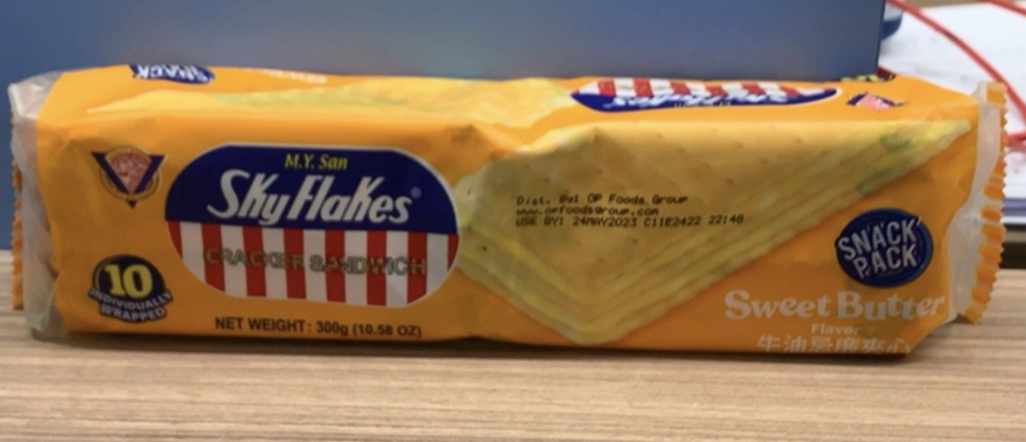crackers_150g: (55, 75, 965, 343)
